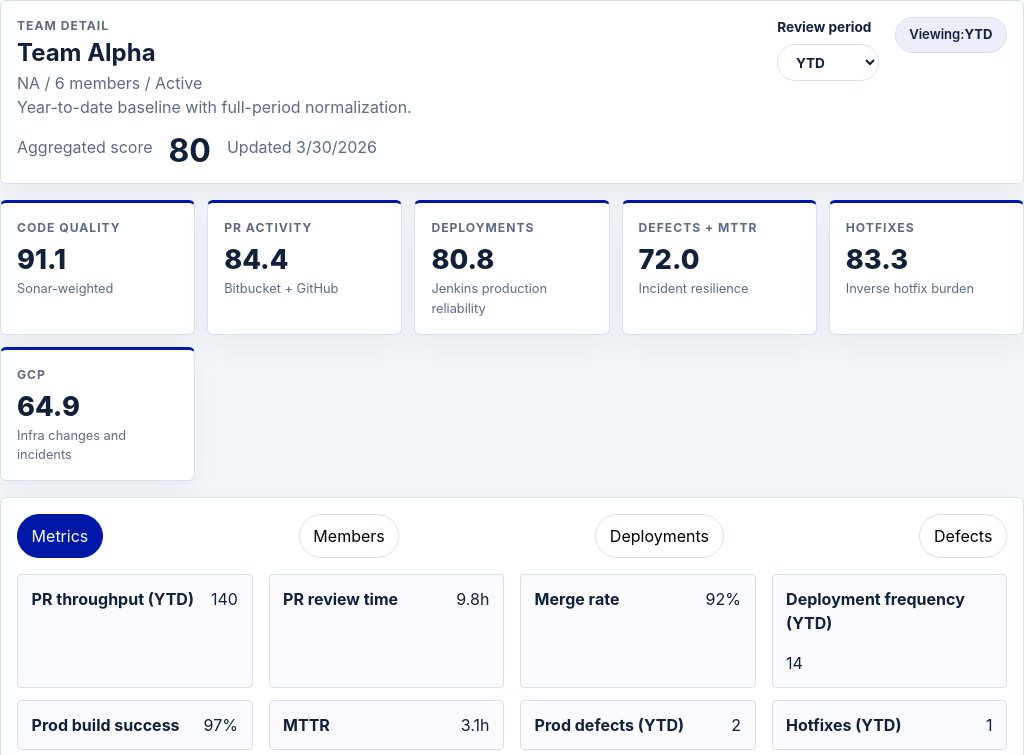
Test case: Team detail page › updates the team view when the period changes
Select "Q" in the dropdown labelled "Review period" at (828, 63), box [777,44,878,81]
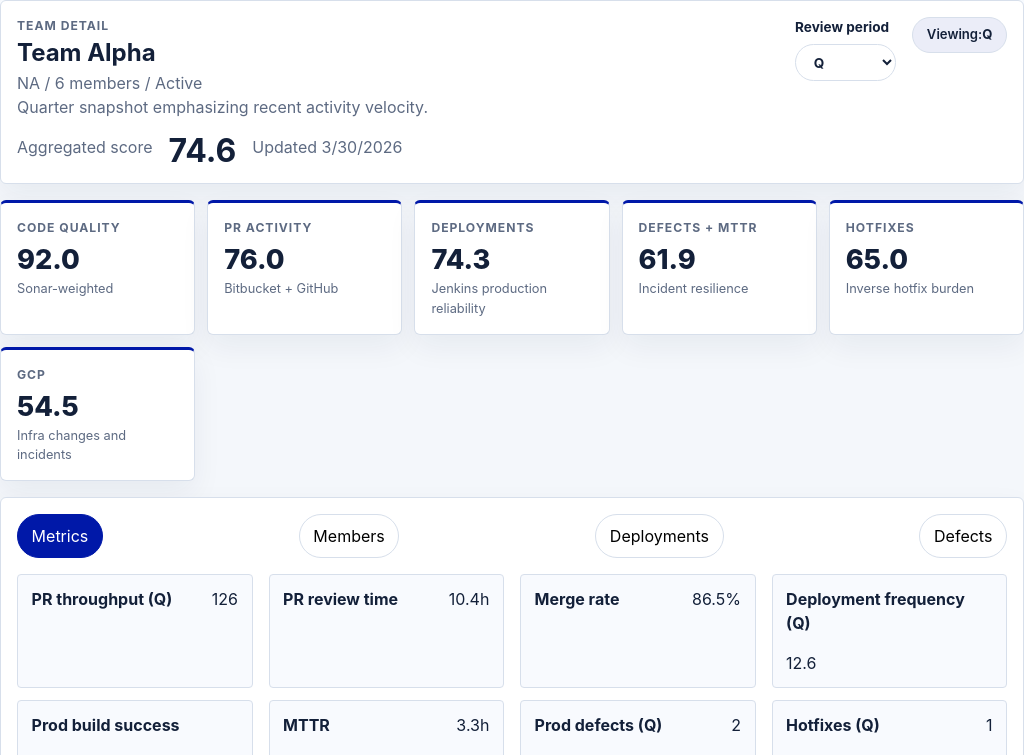
Expected: the text with test id "team-period-description" shows "Quarter snapshot", [17,97,428,117]
Expected: the text "PR throughput (Q)" is shown, [32,589,172,609]
